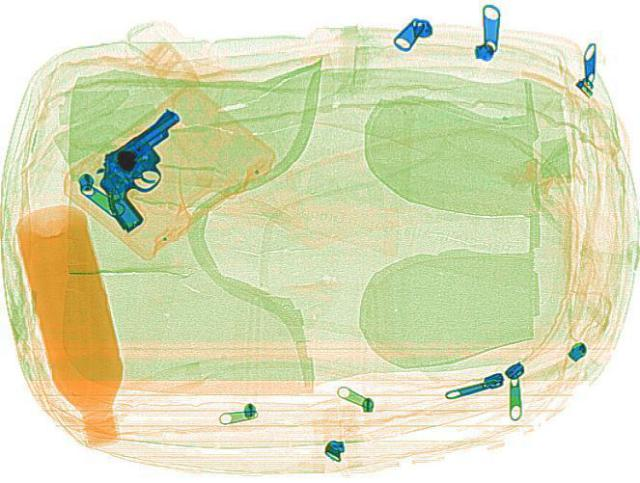Gun: (68, 101, 205, 231)
